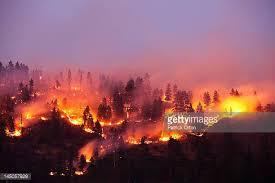fire: (73, 120, 180, 174), (158, 88, 259, 132), (7, 94, 106, 138)
